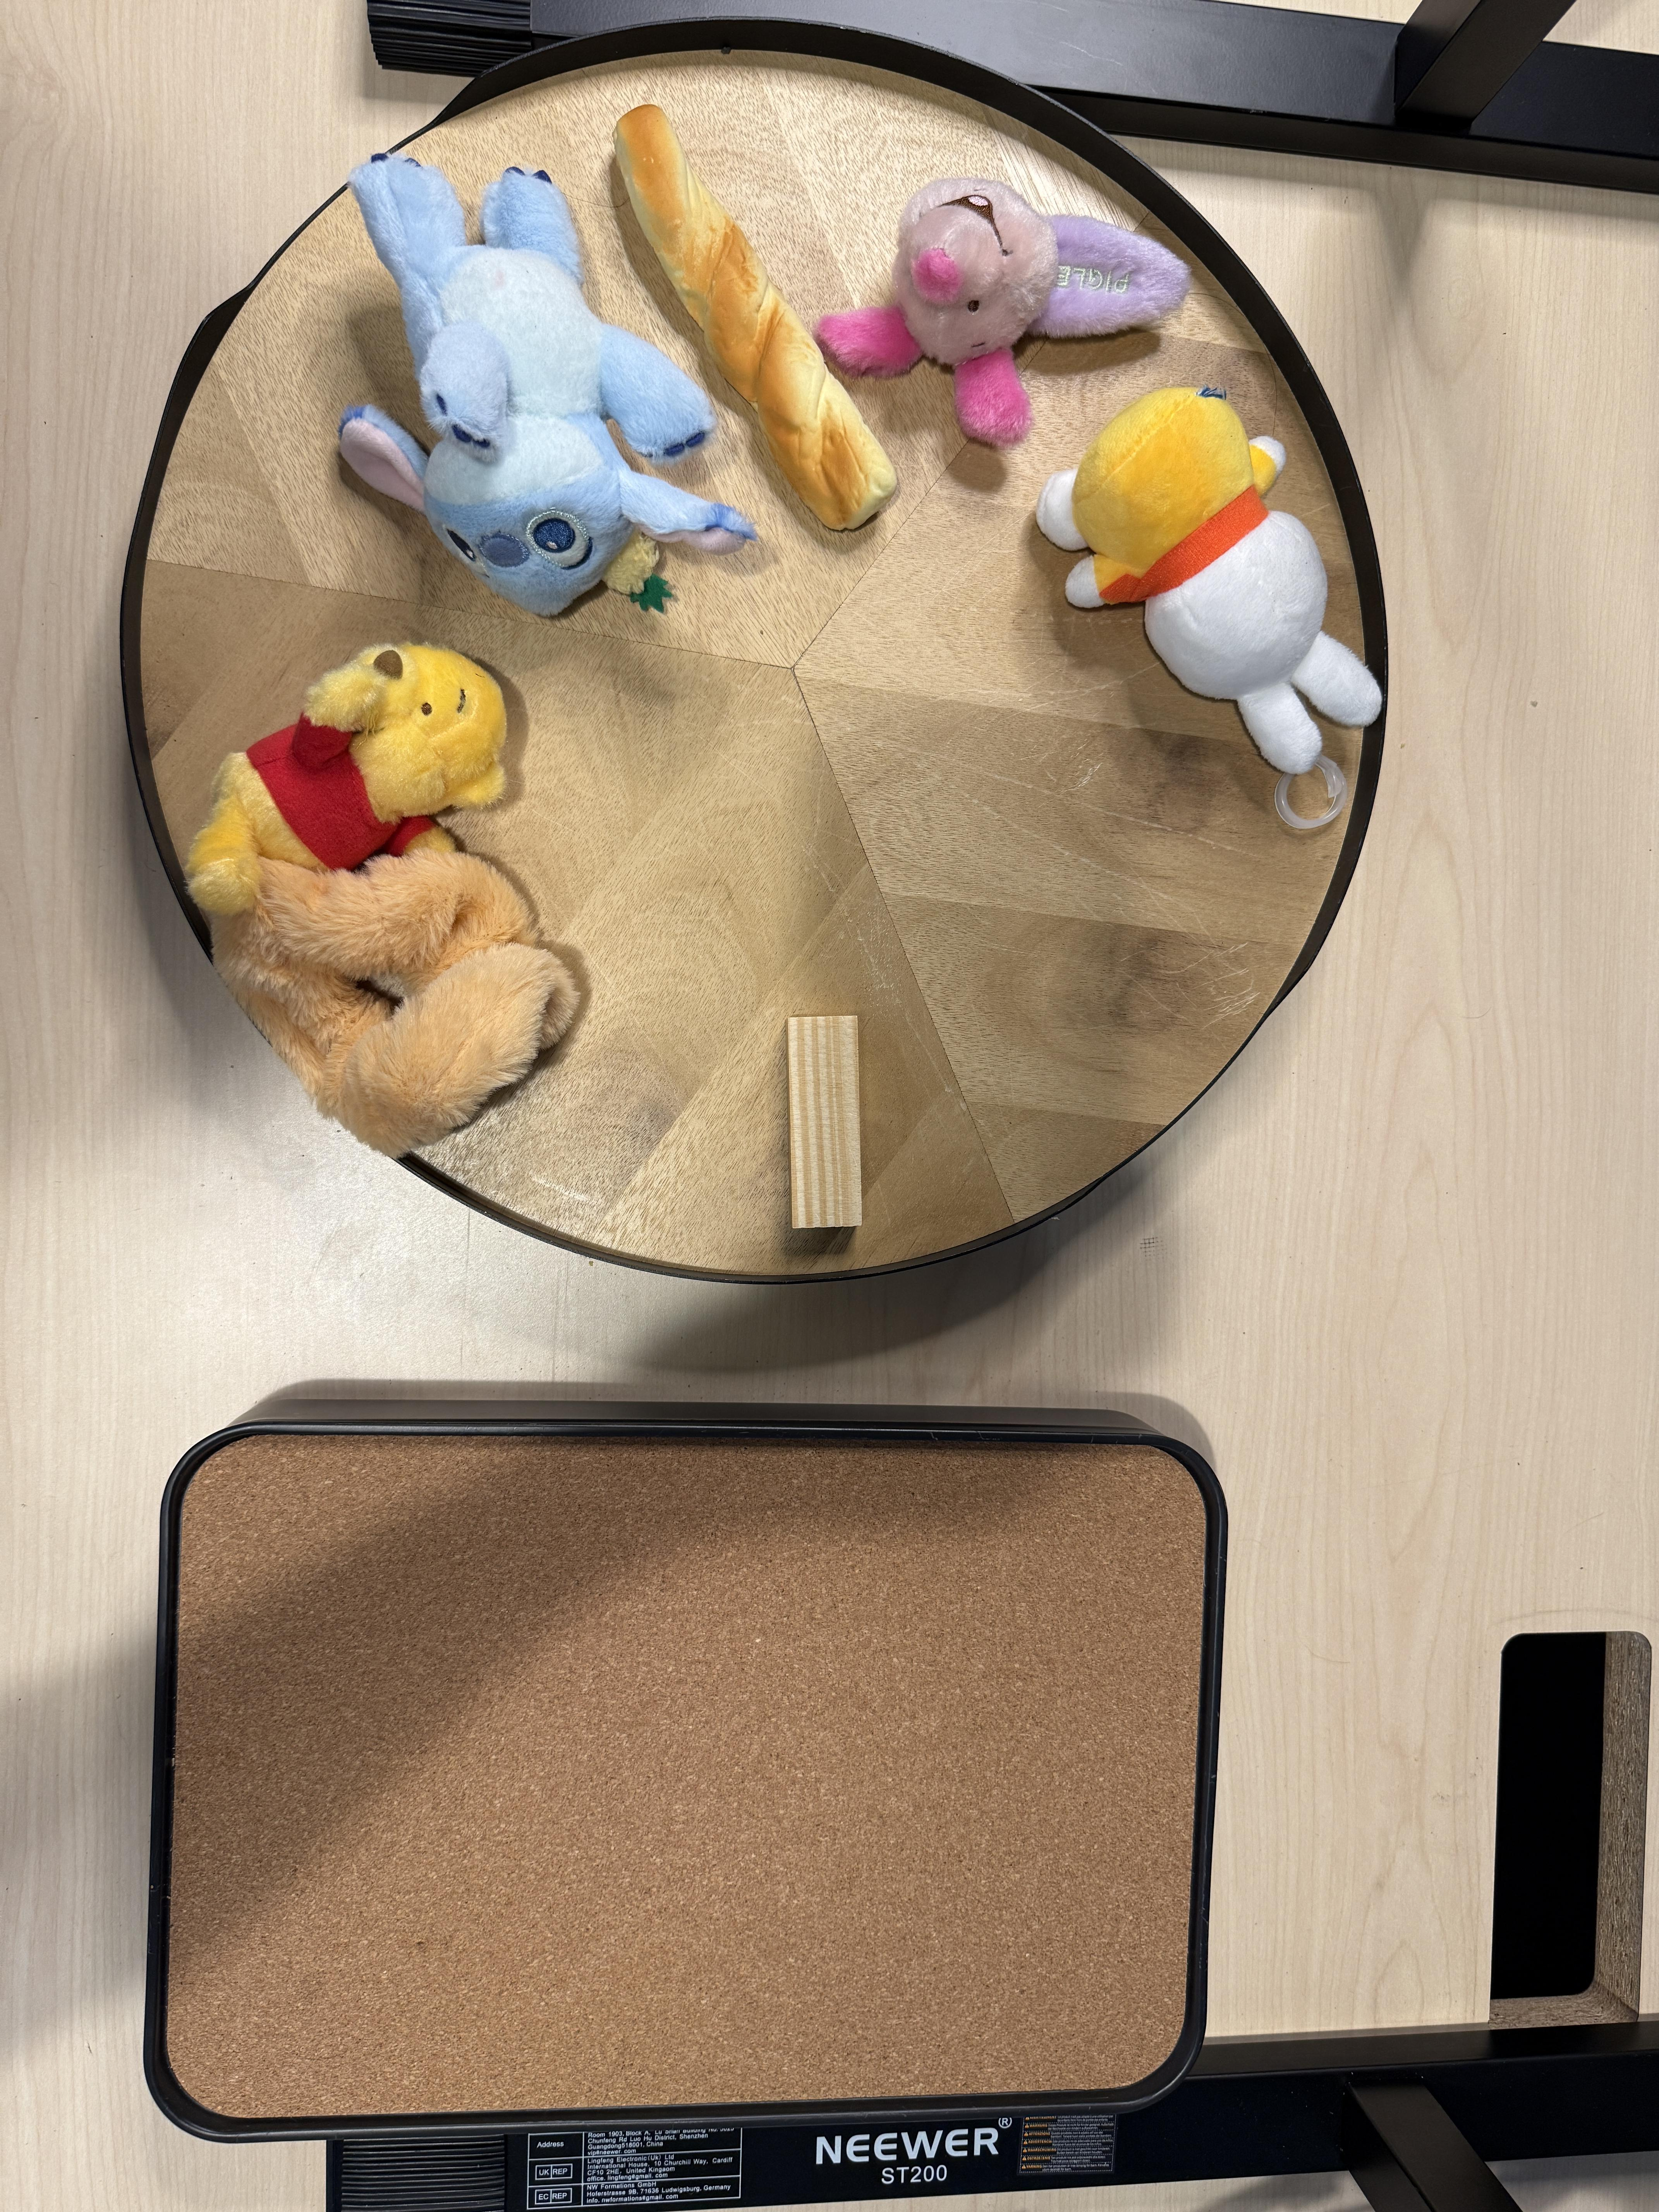block: (786, 1007, 866, 1235)
bread: (612, 101, 906, 533)
doll: (190, 627, 589, 1160), (342, 139, 760, 627), (1039, 383, 1398, 831), (824, 155, 1197, 441)
